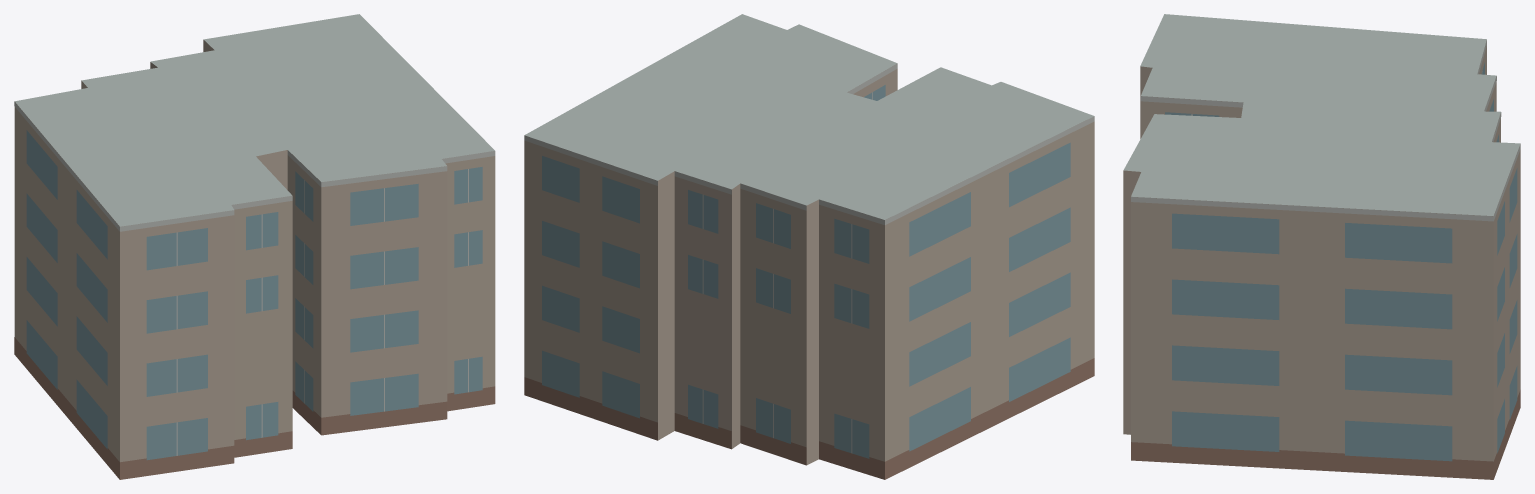
The model's file is survey-upis-32769342.glb.
The picture shows the model from 3 angles, left to right: view 1: azimuth 30°, elevation 25°; view 2: azimuth 150°, elevation 25°; view 3: azimuth 270°, elevation 25°; orthographic projection. The views are drawn at different scales.
Parts seen in each view (by area): view 1: survey-upis-32769342.tmp; view 2: survey-upis-32769342.tmp; view 3: survey-upis-32769342.tmp.
Boxes of the visible parts, x1,y1,x2,y2 form: survey-upis-32769342.tmp: (14,14,495,479); survey-upis-32769342.tmp: (524,14,1094,479); survey-upis-32769342.tmp: (1123,14,1520,479).
Size of the model in its own units: 19.98 by 12.15 by 16.6.
